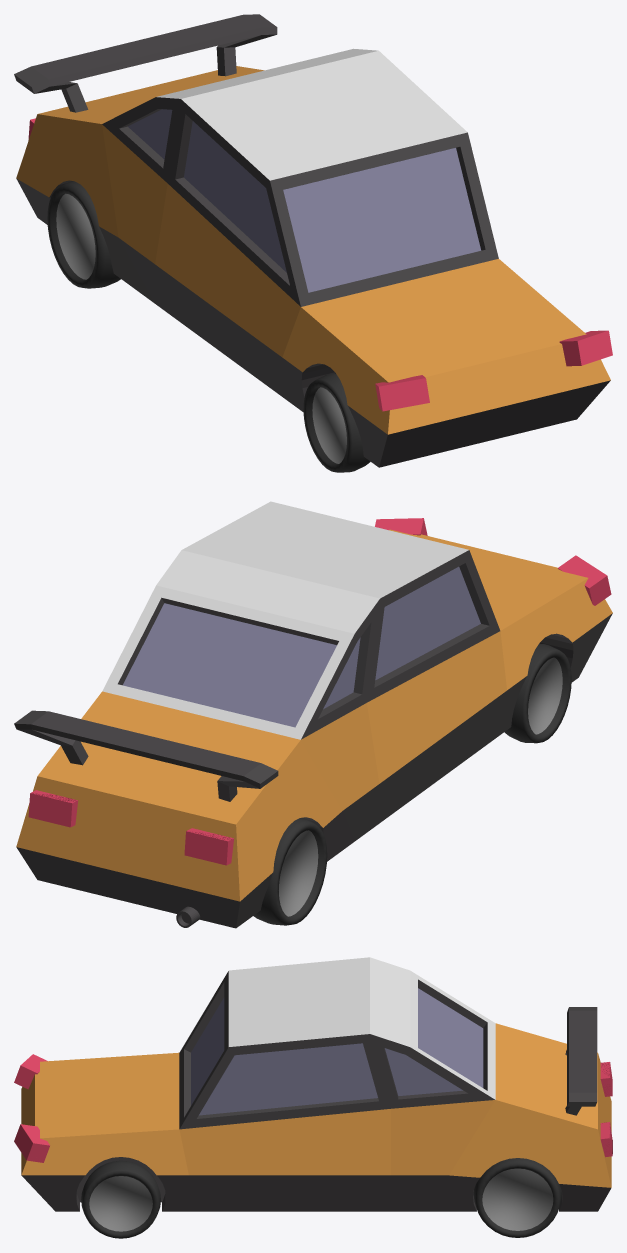
File: car.glb
The picture shows the model from 3 angles, top to bottom: view 1: azimuth 30°, elevation 25°; view 2: azimuth 150°, elevation 25°; view 3: azimuth 270°, elevation 25°; orthographic projection. The views are drawn at different scales.
Visible parts, largest first — view 1: car; view 2: car; view 3: car.
Boxes of the visible parts, left/top/right/bottom form: car: left=14, top=14, right=612, bottom=472; car: left=14, top=501, right=612, bottom=928; car: left=14, top=957, right=612, bottom=1238.
Size of the model in its own units: 2.48 by 2.47 by 6.6.
